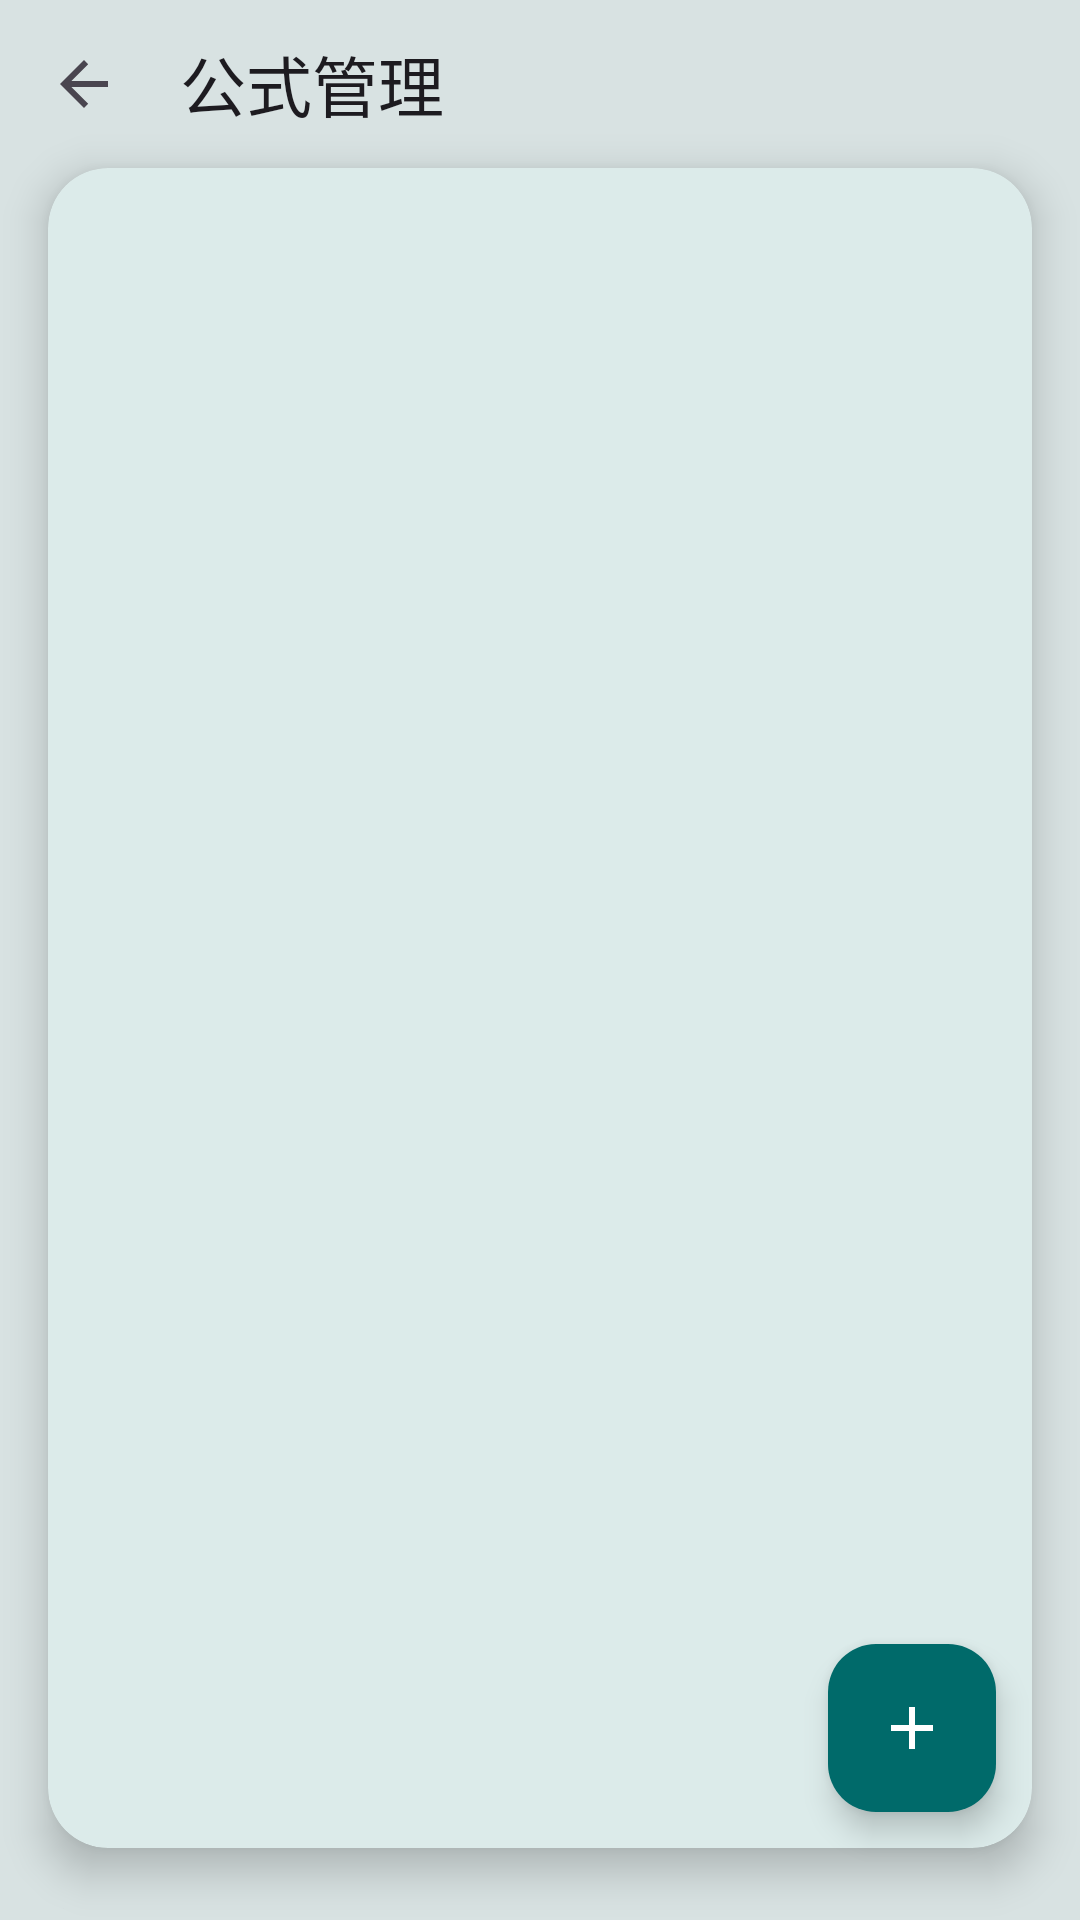

Locate icon controls on the screen. Image size 1080 x 1920, boxes as bbox=(x1, y1, x2, y2).
新建公式: bbox=(828, 1644, 996, 1812)
